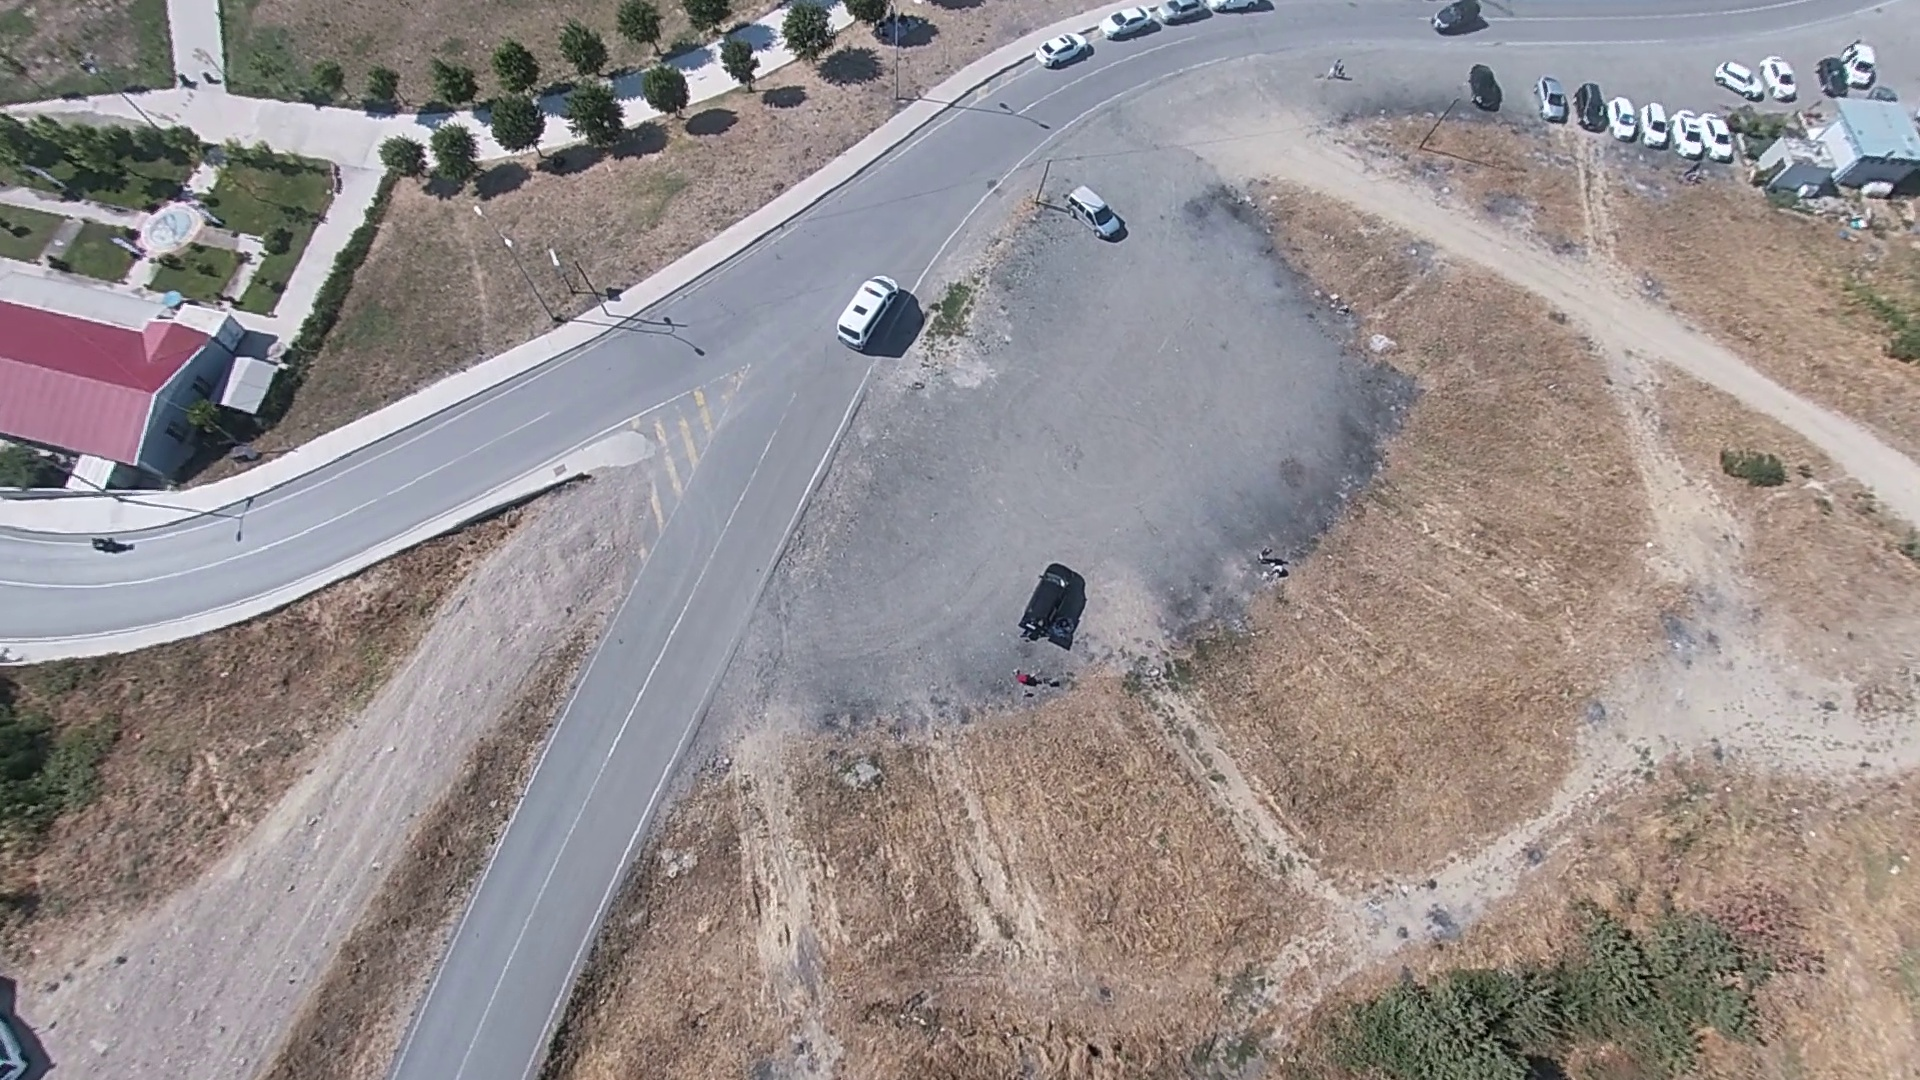araba: (833, 266, 924, 352), (1015, 559, 1088, 647), (1068, 182, 1131, 237), (1040, 28, 1096, 69), (1717, 55, 1768, 98), (1429, 1, 1491, 36), (1572, 83, 1611, 133), (1466, 61, 1502, 112), (1701, 109, 1737, 161), (1531, 73, 1568, 121), (1762, 54, 1801, 99), (1841, 41, 1879, 87), (1105, 4, 1156, 37), (1815, 55, 1850, 102), (1636, 100, 1668, 152), (1671, 107, 1702, 156), (1607, 94, 1636, 138), (1155, 1, 1215, 22)
